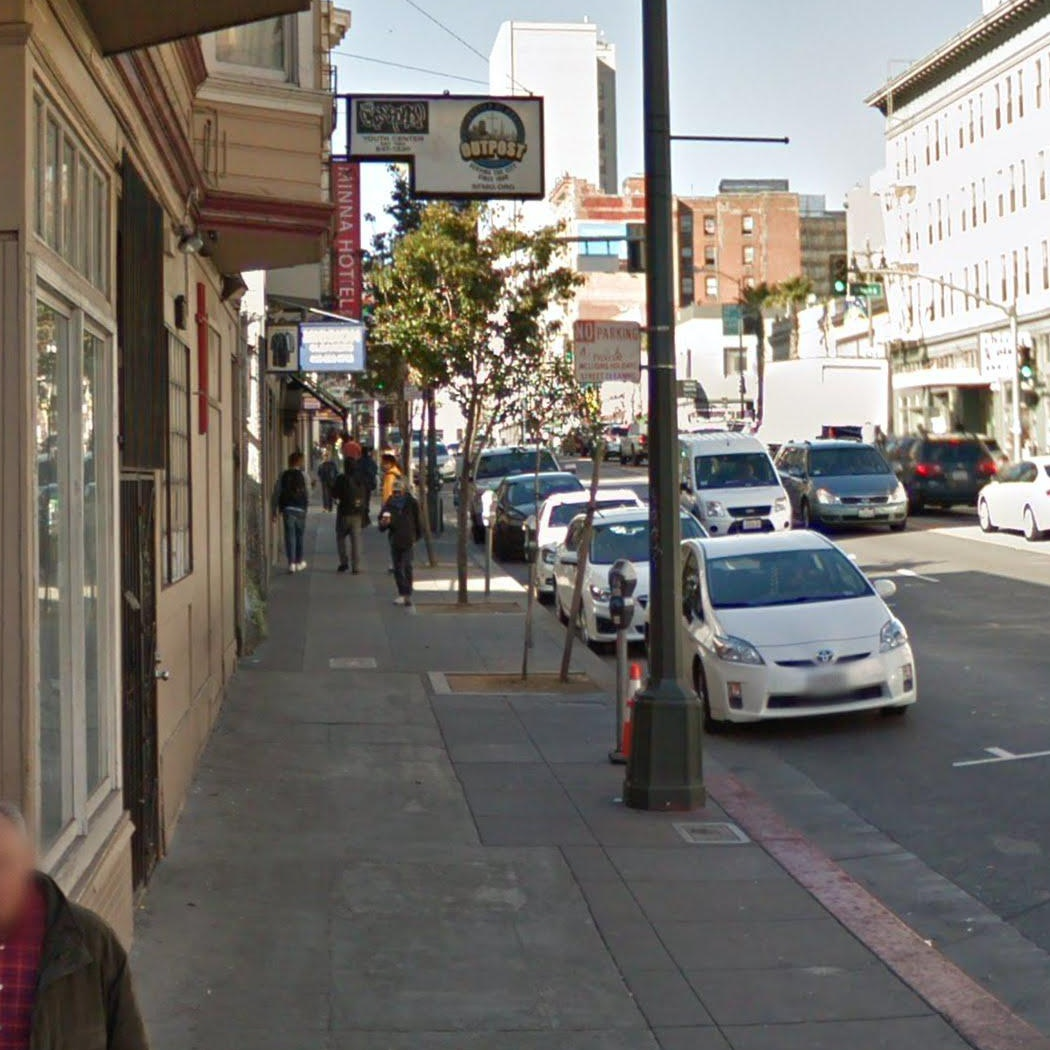No Parking: (569, 316, 643, 385)
